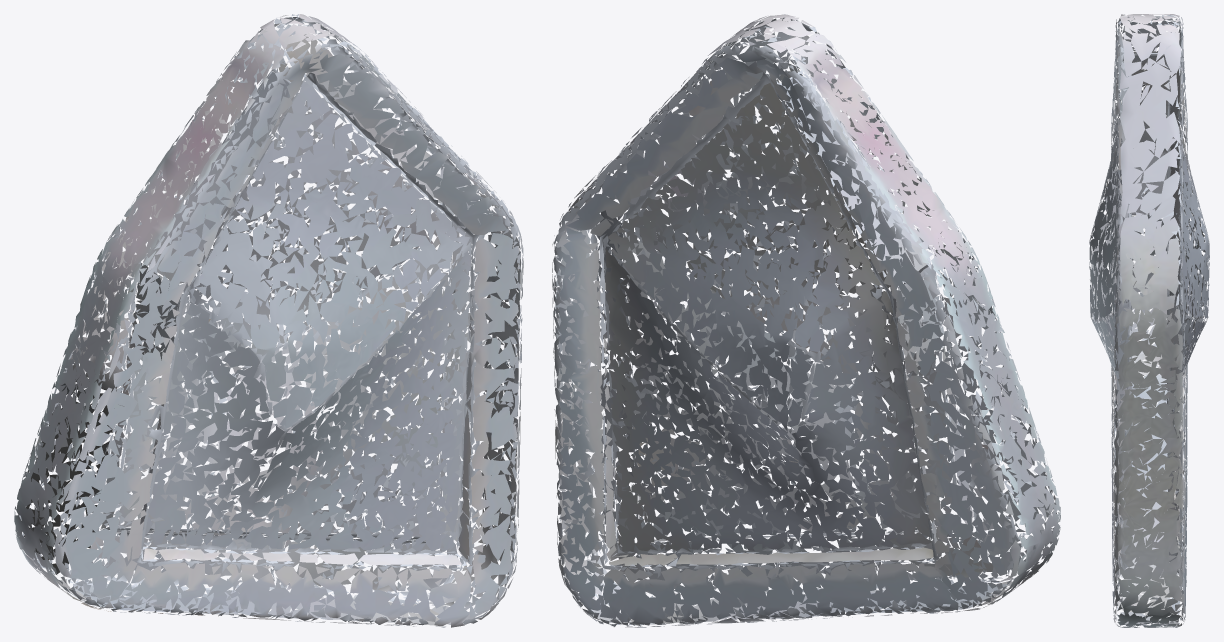
File: glass.glb
The picture shows the model from 3 angles, left to right: view 1: azimuth 30°, elevation 25°; view 2: azimuth 150°, elevation 25°; view 3: azimuth 270°, elevation 25°; orthographic projection. The views are drawn at different scales.
Bounding box in the file's own units: 0.08 × 0.1004 × 0.0203.
1 material, 1 textured.
